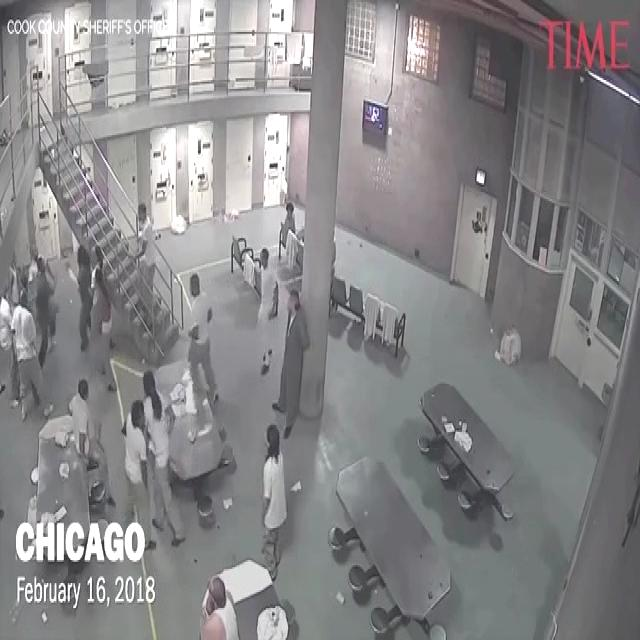fight: (17, 235, 95, 358)
